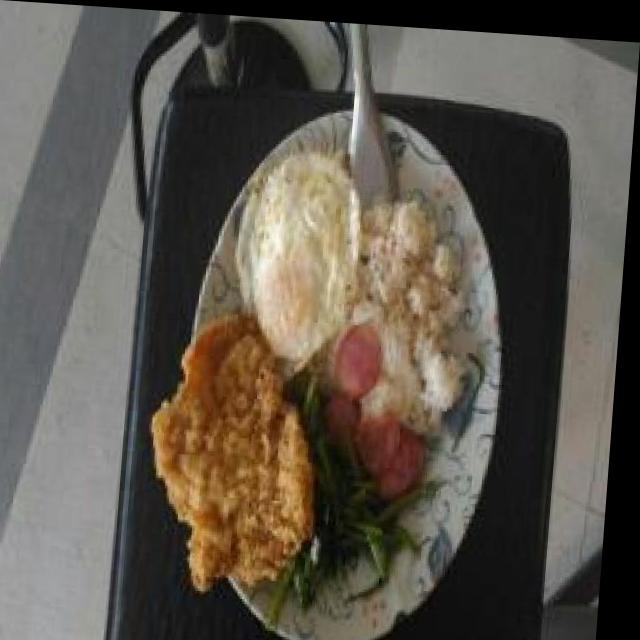chinese_sausage: (336, 324, 440, 487)
fried_chicken: (146, 299, 326, 598)
fried_eggs: (232, 141, 373, 363)
rice: (359, 195, 468, 393)
water_spinach: (319, 468, 427, 564)
